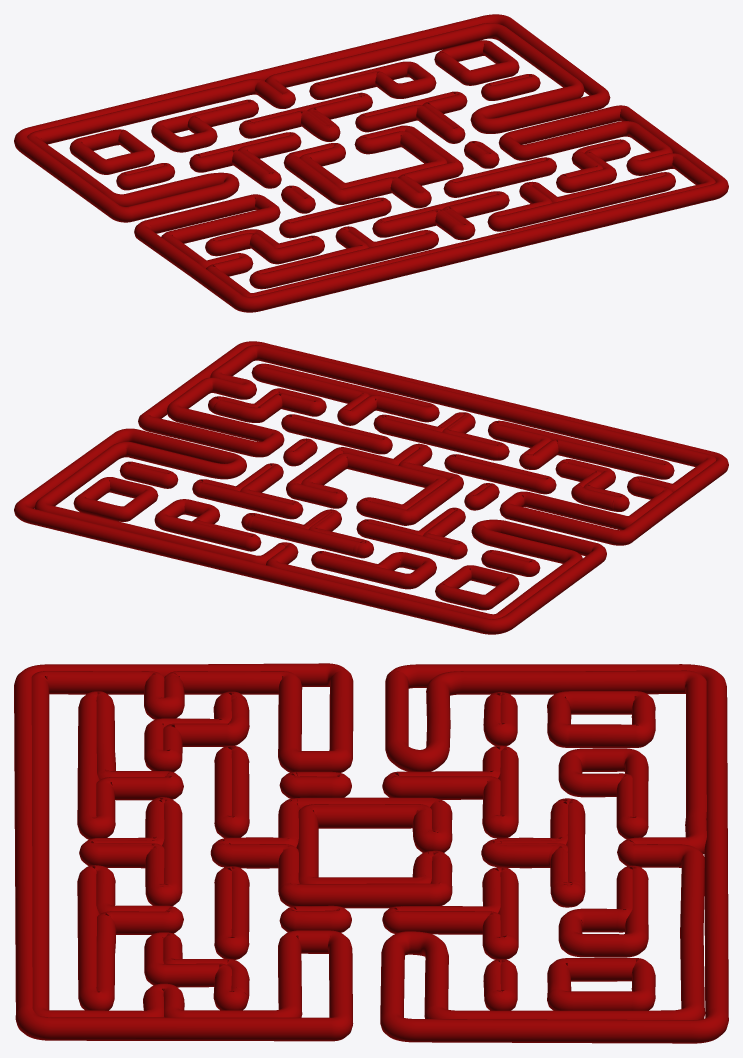
Rendered from Pac-Man Map.fbx.
3 views of the same model, one above another, from view 1: azimuth 30°, elevation 25°; view 2: azimuth 150°, elevation 25°; view 3: azimuth 270°, elevation 25° (orthographic). The views are drawn at different scales.
Visible parts, largest first — view 1: Sweep, Sweep_6, Sweep_3, Sweep_1, Sweep_2_2, Sweep_5, Sweep_2, Sweep_4; view 2: Sweep, Sweep_6, Sweep_3, Sweep_1, Sweep_2_2, Sweep_5, Sweep_2, Sweep_4; view 3: Sweep, Sweep_6, Sweep_3, Sweep_1, Sweep_2_2, Sweep_5, Sweep_4, Sweep_2.
Part boxes in pixels (x1=…): Sweep: x1=14, y1=14, x2=728, y2=312; Sweep_6: x1=205, y1=125, x2=675, y2=289; Sweep_3: x1=189, y1=91, x2=467, y2=188; Sweep_1: x1=151, y1=61, x2=436, y2=152; Sweep_2_2: x1=69, y1=40, x2=519, y2=174; Sweep_5: x1=279, y1=157, x2=556, y2=238; Sweep_2: x1=116, y1=74, x2=540, y2=190; Sweep_4: x1=281, y1=141, x2=499, y2=213; Sweep: x1=14, y1=341, x2=728, y2=634; Sweep_6: x1=208, y1=363, x2=674, y2=525; Sweep_3: x1=192, y1=463, x2=467, y2=559; Sweep_1: x1=154, y1=499, x2=436, y2=589; Sweep_2_2: x1=73, y1=477, x2=519, y2=610; Sweep_5: x1=281, y1=414, x2=556, y2=494; Sweep_2: x1=119, y1=461, x2=540, y2=576; Sweep_4: x1=283, y1=438, x2=499, y2=510; Sweep: x1=14, y1=663, x2=728, y2=1043; Sweep_6: x1=77, y1=691, x2=452, y2=1010; Sweep_3: x1=382, y1=745, x2=585, y2=959; Sweep_1: x1=558, y1=748, x2=648, y2=957; Sweep_2_2: x1=547, y1=691, x2=655, y2=1010; Sweep_5: x1=214, y1=745, x2=249, y2=959; Sweep_4: x1=279, y1=771, x2=351, y2=932; Sweep_2: x1=483, y1=692, x2=517, y2=1010.
Size of the model in its own units: 1031 by 28 by 850.
